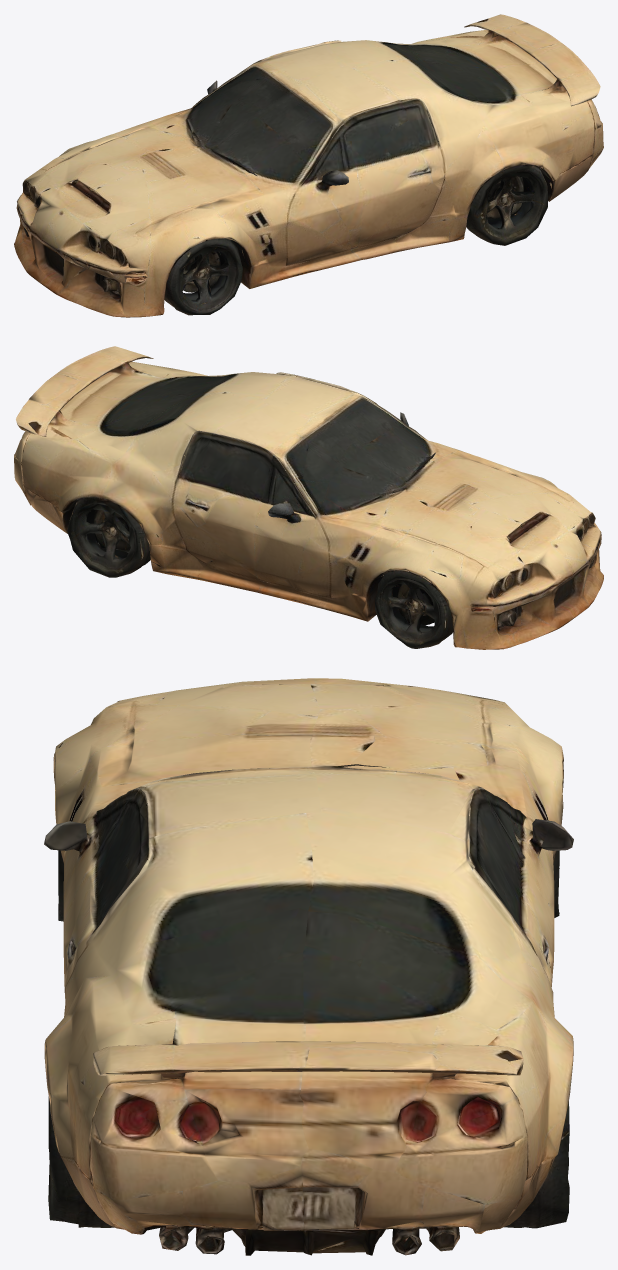
File: car_sports_light_q4.glb
3 views of the same model, one above another, from view 1: azimuth 30°, elevation 25°; view 2: azimuth 150°, elevation 25°; view 3: azimuth 270°, elevation 25° (orthographic). The views are drawn at different scales.
Size of the model in its own units: 4.37 by 1.25 by 1.92.
1 material, 1 textured.
